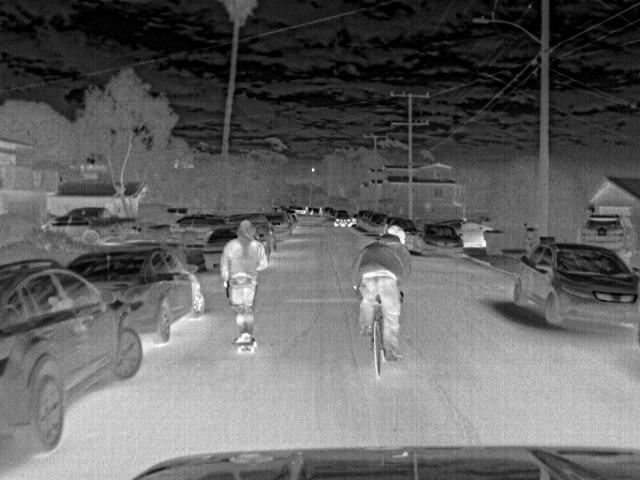car: (3, 260, 144, 454), (67, 244, 207, 347), (512, 240, 640, 336), (69, 204, 141, 242), (39, 213, 115, 242), (408, 223, 466, 257), (200, 224, 240, 273), (576, 212, 624, 252), (438, 220, 498, 250), (240, 218, 279, 253), (171, 214, 219, 233), (263, 212, 292, 238), (385, 218, 414, 240), (369, 212, 388, 236), (333, 209, 355, 227), (361, 211, 373, 231)
person: (355, 226, 411, 362), (219, 217, 269, 345)
